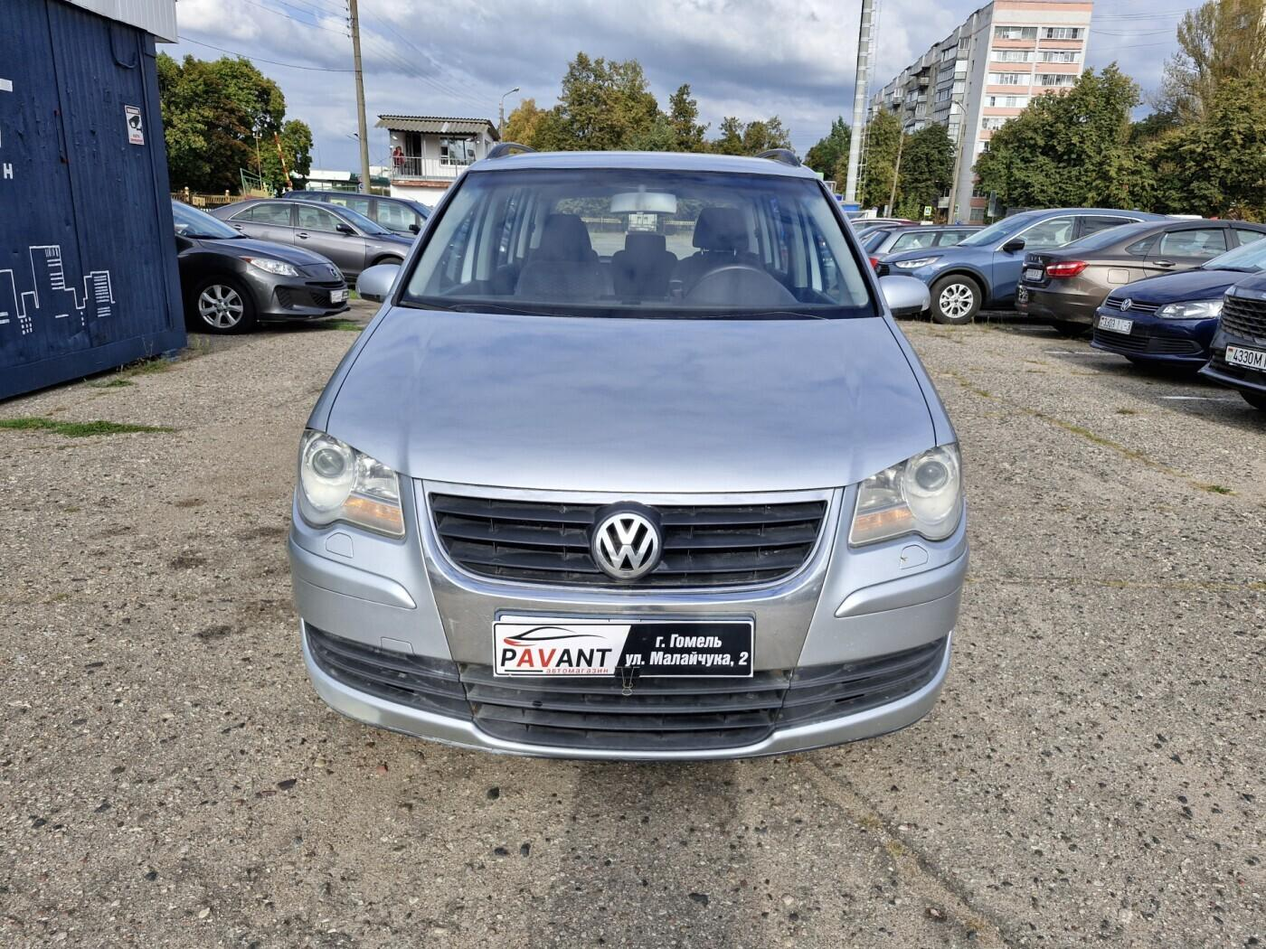Touran_2006-2010: (285, 145, 971, 754)
